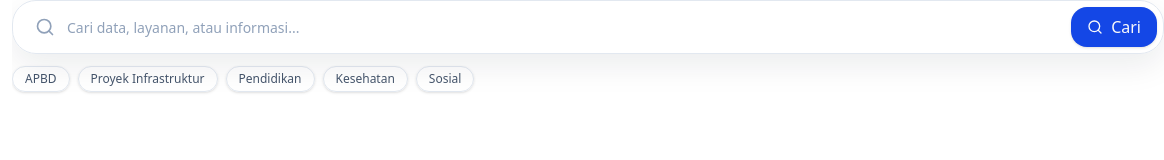
it: PublicHeroSearch › populates a popular tag into the search input
Click the button "APBD". click: [41, 79]
box: [12,66,70,92]
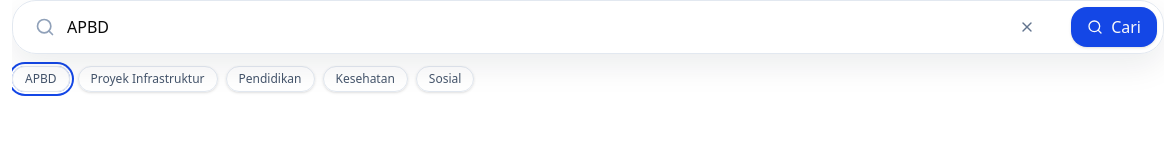
Result: the field named "Cari data, layanan, atau informasi" holds "APBD" at [67,7,995,47]
